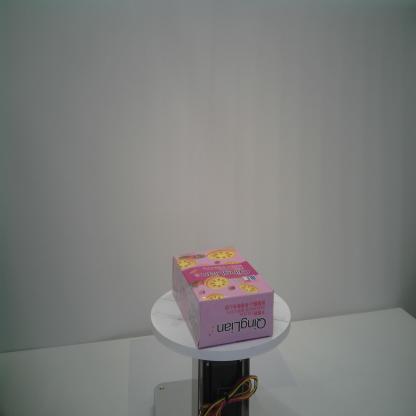Dessert: (170, 245, 275, 350)
